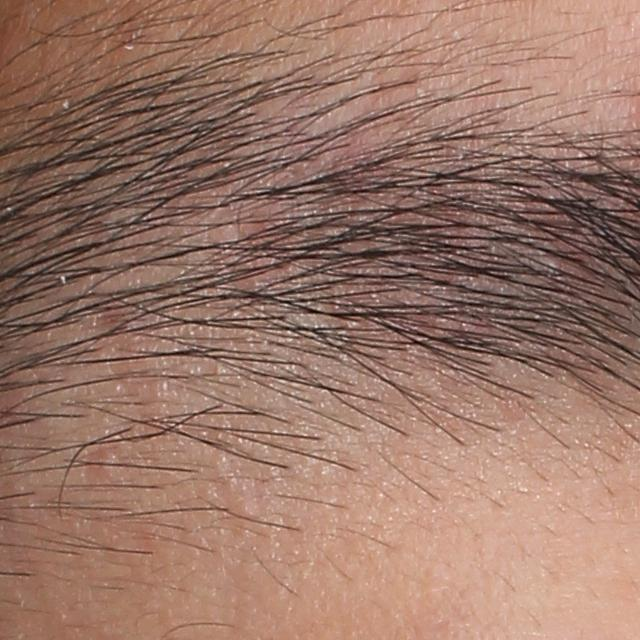papule: (84, 446, 128, 485)
